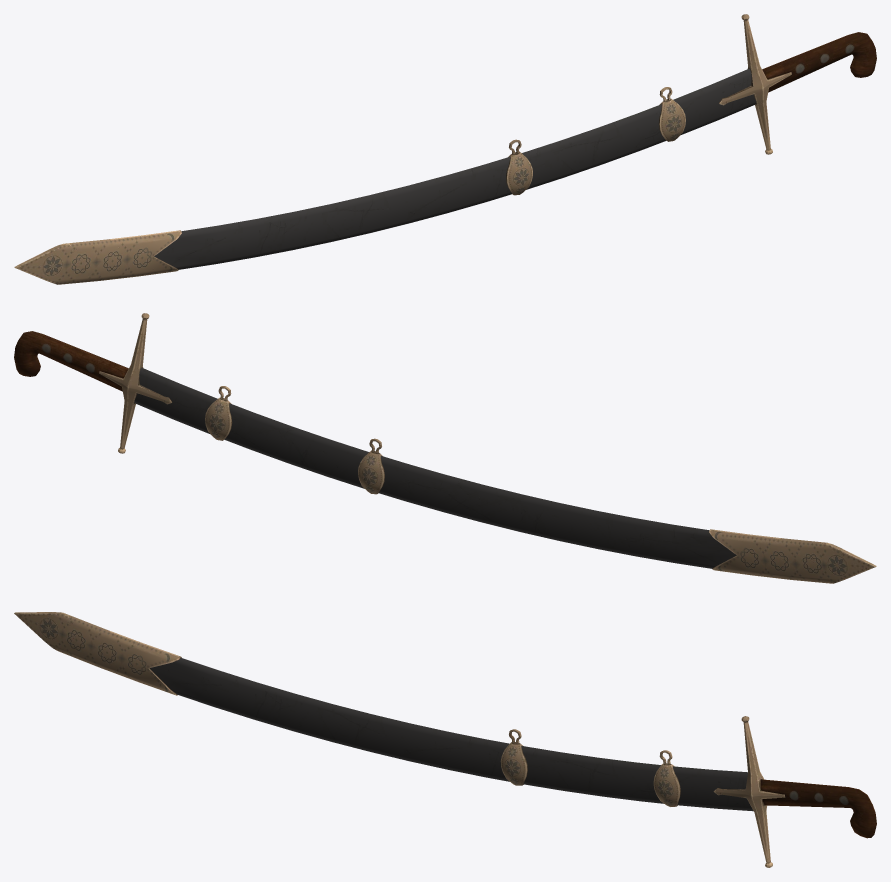
The model's file is arabic_sword.glb.
3 views of the same model, one above another, from view 1: azimuth 30°, elevation 25°; view 2: azimuth 150°, elevation 25°; view 3: azimuth 330°, elevation 25° (orthographic).
Visible parts, largest first — view 1: Plane001; view 2: Plane001; view 3: Plane001.
Boxes of the visible parts, x1=… form: Plane001: x1=14, y1=14, x2=876, y2=284; Plane001: x1=14, y1=313, x2=876, y2=583; Plane001: x1=14, y1=612, x2=876, y2=867.
Size of the model in its own units: 183 by 29.51 by 4.28.
1 material, 1 textured.
